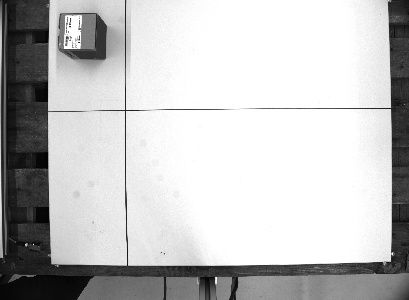b7: (53, 9, 109, 62)
